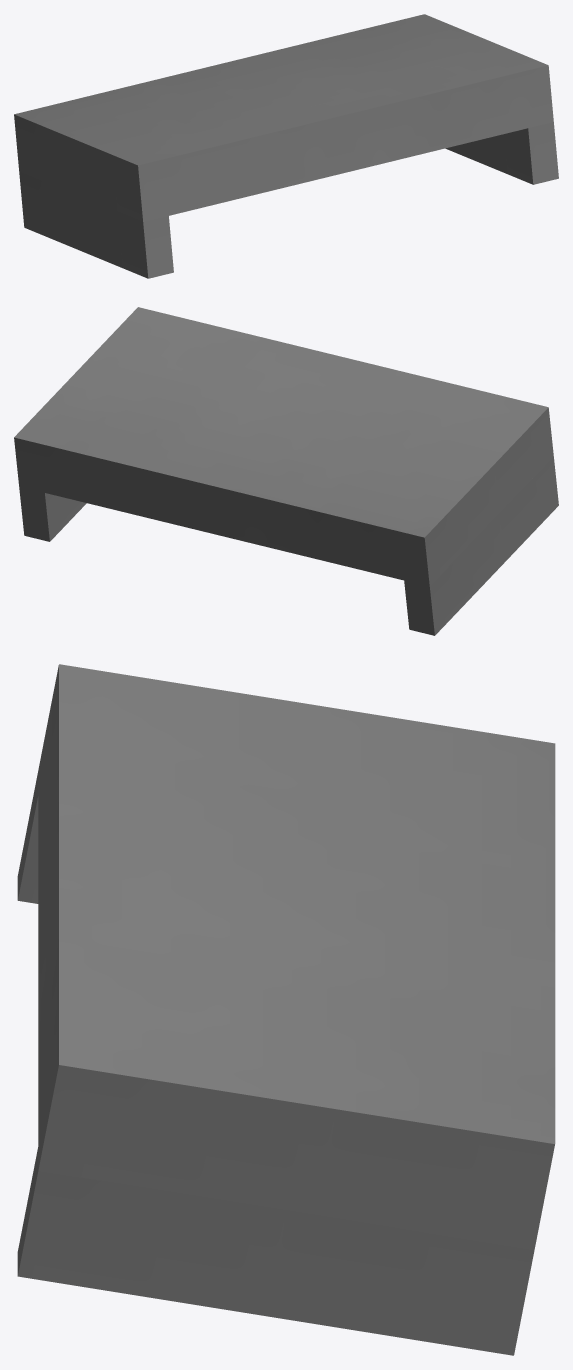
Rendered from dc_metro_arch_b10.obj.
3 renders of one model, top to bottom at view 1: azimuth 30°, elevation 25°; view 2: azimuth 150°, elevation 25°; view 3: azimuth 270°, elevation 25°, orthographic. The views are drawn at different scales.
Visible parts, largest first — view 1: part10; view 2: part10; view 3: part10.
Part boxes in pixels (x1,y1,x2,y2): part10: (14, 14, 558, 278); part10: (14, 307, 558, 635); part10: (17, 664, 555, 1355).
Size of the model in its own units: 2 by 0.6769 by 1.13.
2 materials, 2 textured.
